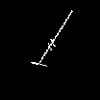treble_crochet: (31, 10, 72, 65)
